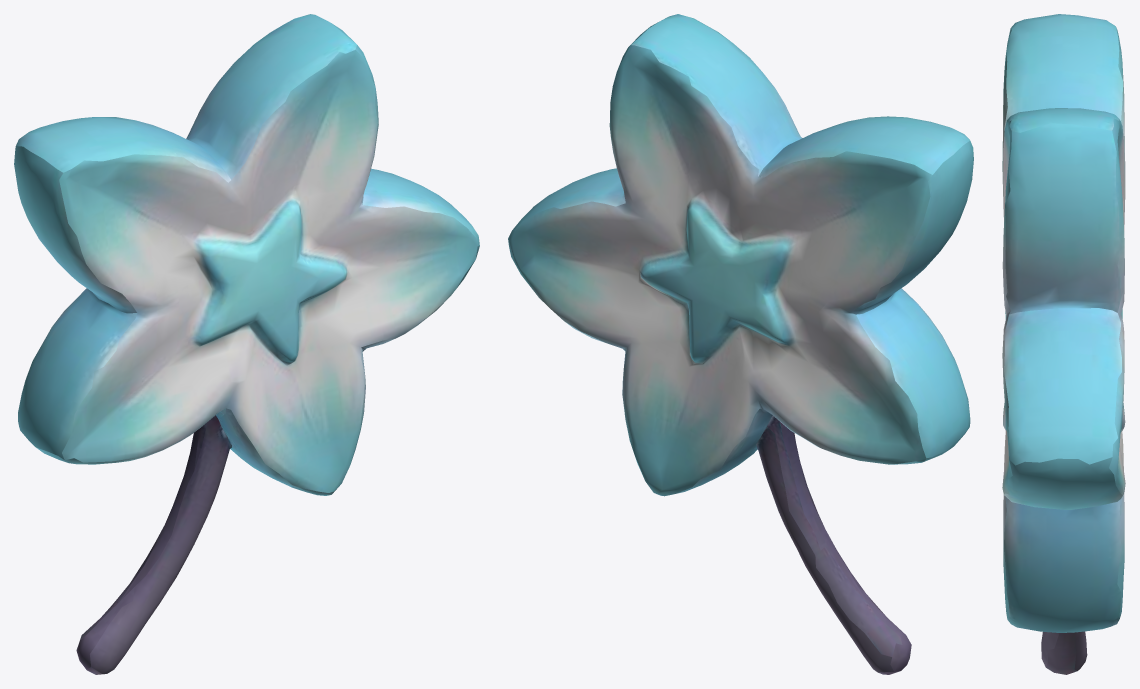
File: moonflower.glb
The picture shows the model from 3 angles, left to right: view 1: azimuth 30°, elevation 25°; view 2: azimuth 150°, elevation 25°; view 3: azimuth 270°, elevation 25°; orthographic projection. The views are drawn at different scales.
Parts seen in each view (by area): view 1: moonflower; view 2: moonflower; view 3: moonflower.
Part boxes in pixels (x1=…): moonflower: x1=14, y1=14, x2=479, y2=674; moonflower: x1=508, y1=14, x2=973, y2=674; moonflower: x1=1002, y1=14, x2=1125, y2=674.
Size of the model in its own units: 0.7706 by 1 by 0.1642.
Materials: 1 (1 with a texture image).
